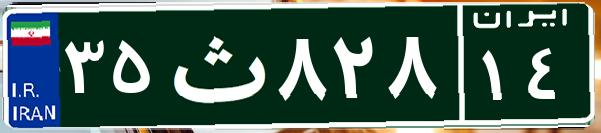1: (475, 38, 525, 113)
2: (330, 28, 385, 110)
3: (57, 26, 110, 107)
4: (525, 38, 570, 115)
5: (110, 28, 158, 105)
8: (385, 28, 445, 110), (273, 28, 330, 110)
ث: (158, 15, 273, 115)
